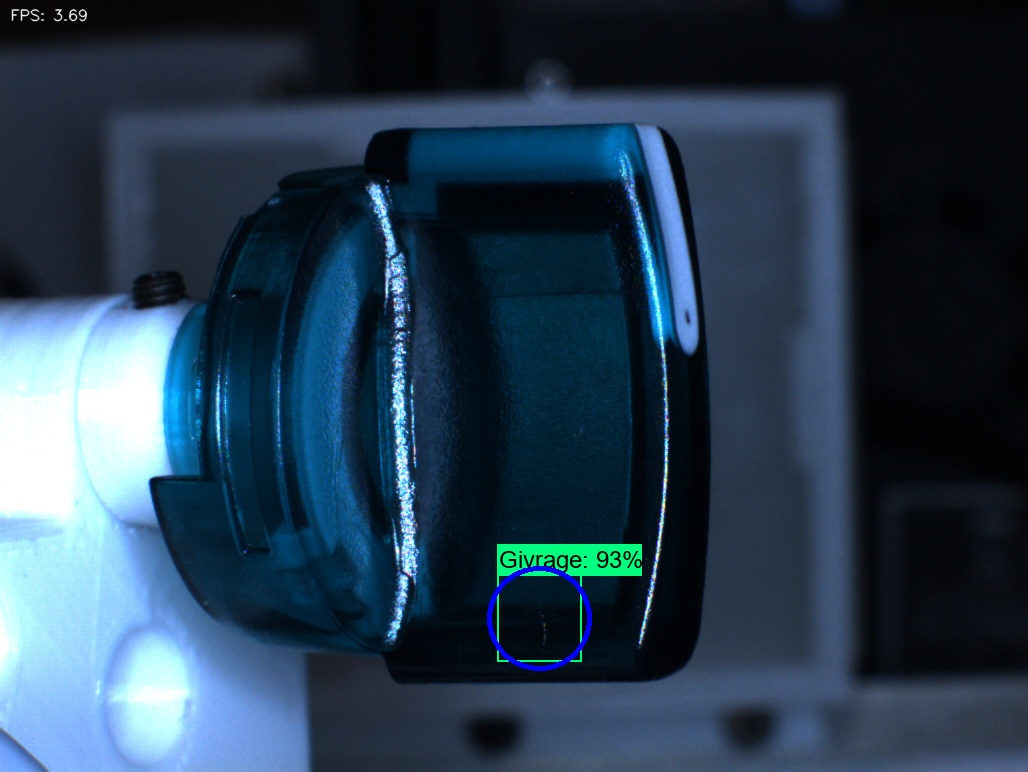PointNoir: (658, 279, 728, 352)
